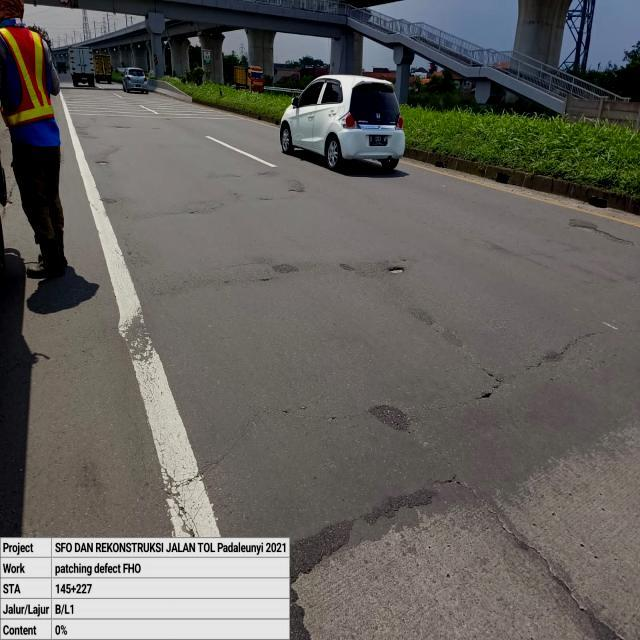Buraco: (568, 223, 636, 248), (385, 265, 407, 275), (94, 160, 110, 167)
